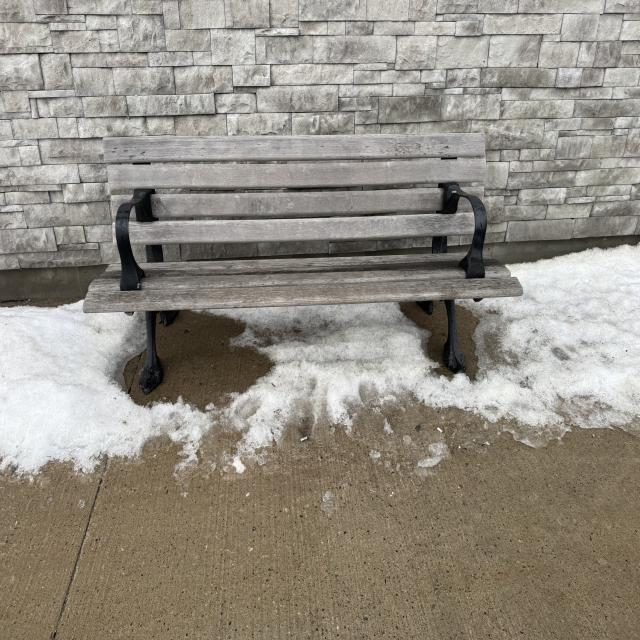Bench: (84, 134, 534, 389)
